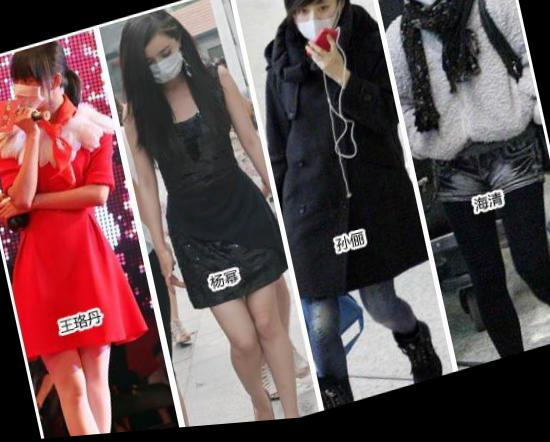OK: (6, 57, 64, 119), (132, 36, 185, 92)
WRONG: (289, 1, 349, 58), (396, 1, 455, 19)
